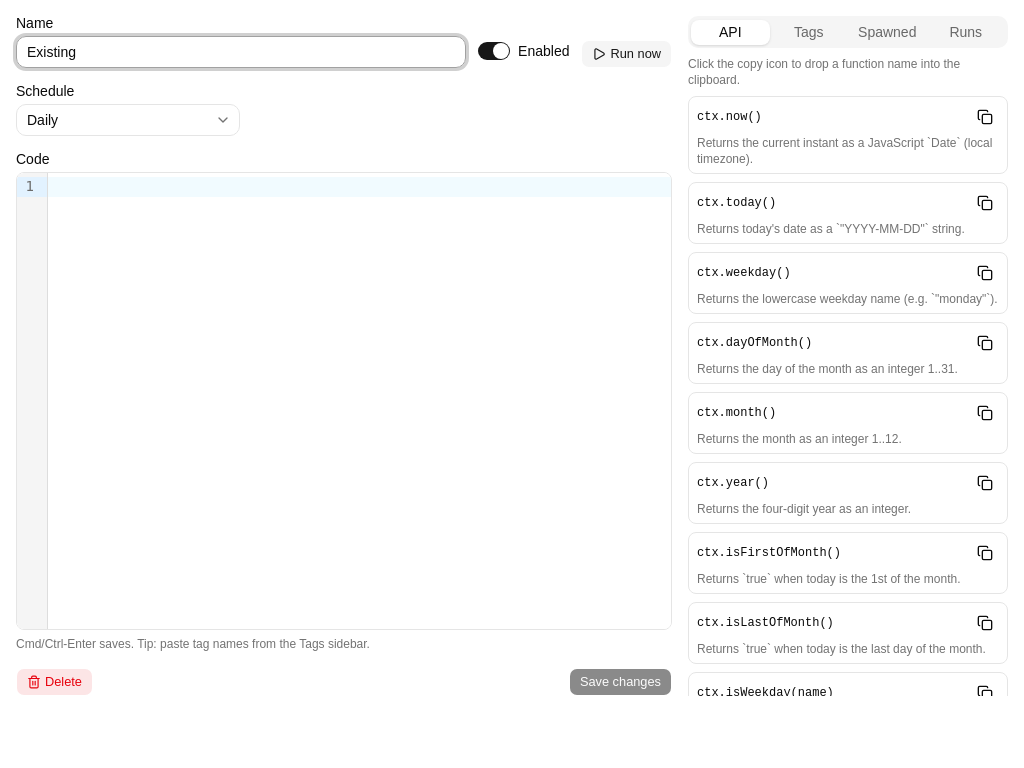
Scenario: ScriptEditorPage (edit mode) › disables "Run now" when the form is dirty
expect the button "Run now" is enabled: met, box top-left (582, 40), bottom-right (672, 68)
Step 1. Replace the text in the field showing "Existing" with "Existing 2" → (241, 52), box top-left (16, 36), bottom-right (466, 68)
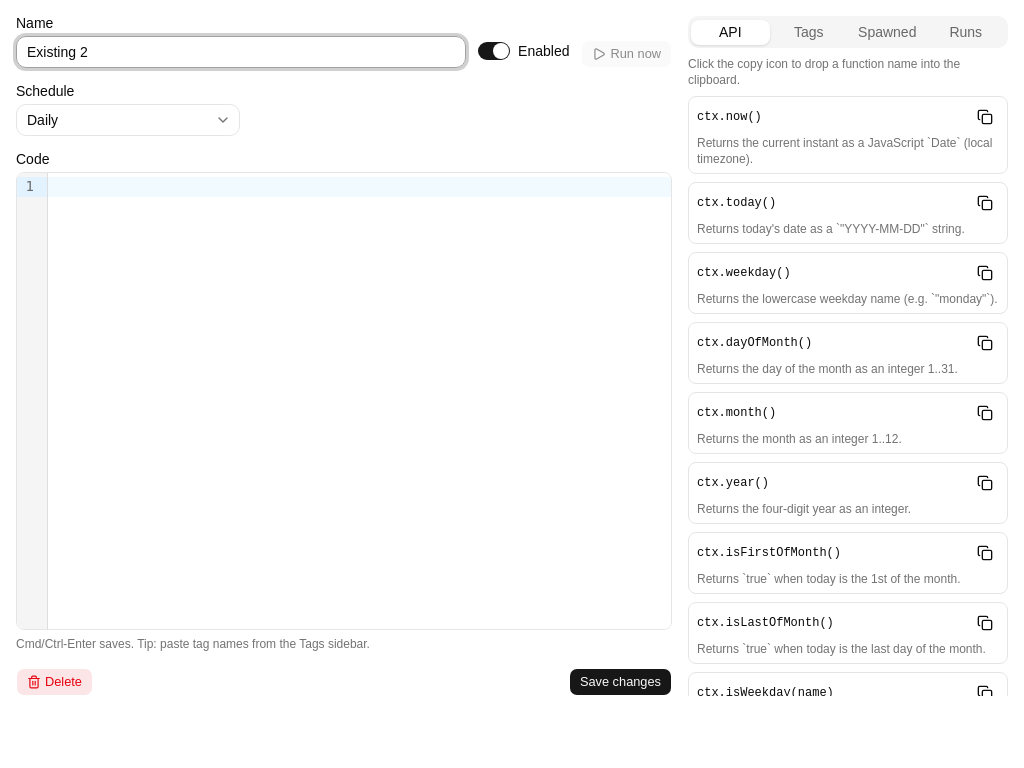
expect the button "Run now" is disabled: met, box top-left (582, 40), bottom-right (672, 68)
